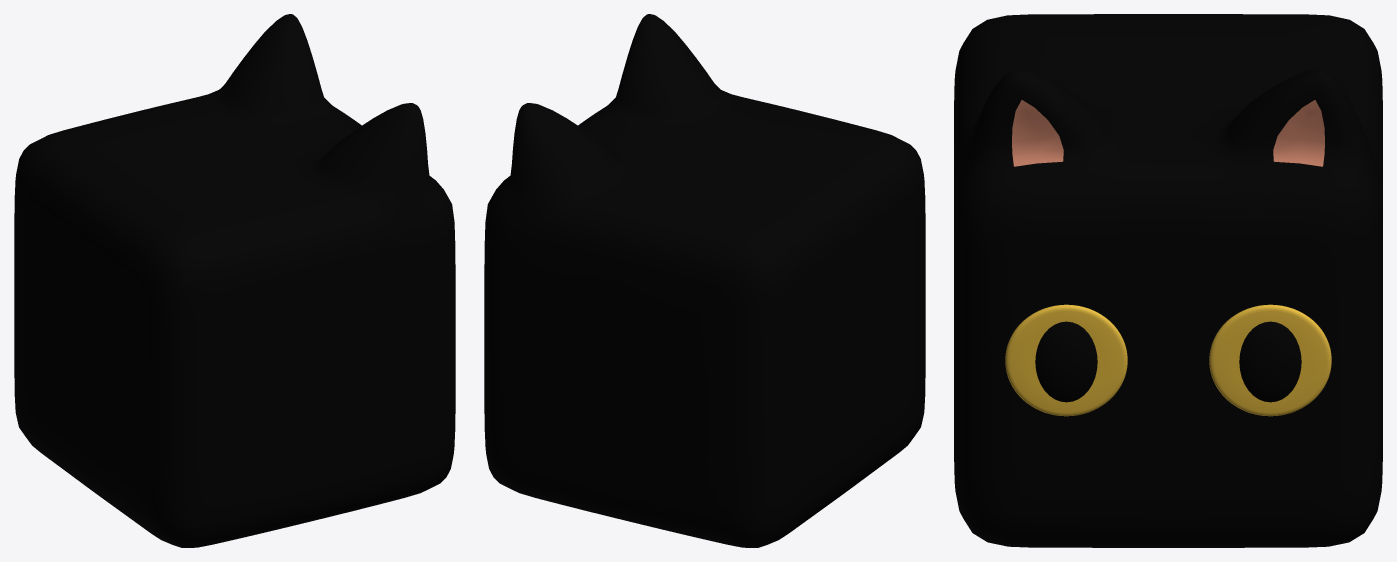
File: Cat_Idle.fbx
The picture shows the model from 3 angles, left to right: view 1: azimuth 30°, elevation 25°; view 2: azimuth 150°, elevation 25°; view 3: azimuth 270°, elevation 25°; orthographic projection. The views are drawn at different scales.
Visible parts, largest first — view 1: Retopo_Cube.003; view 2: Retopo_Cube.003; view 3: Retopo_Cube.003, Cylinder.001.
Boxes of the visible parts, x1,y1,x2,y2 form: Retopo_Cube.003: (14,14,455,547); Retopo_Cube.003: (484,14,925,547); Retopo_Cube.003: (954,14,1382,547); Cylinder.001: (1005,304,1331,416).
Bounding box in the file's own units: 366 × 433 × 355.
